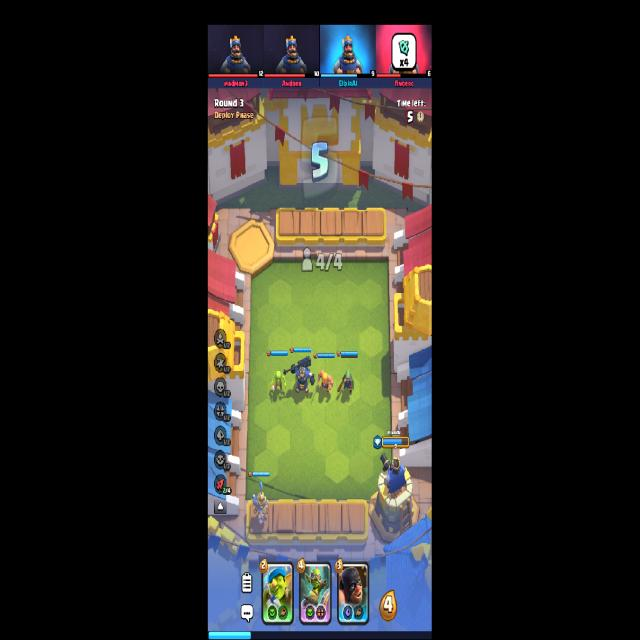bandit: (338, 370, 354, 394)
barbarian: (313, 367, 334, 398)
card_executioner: (337, 562, 369, 624)
card_goblin_machine: (299, 562, 331, 625)
card_spear_goblin: (261, 561, 293, 623)
goblin: (270, 369, 287, 395)
prince: (252, 481, 268, 524)
skeleton_king: (284, 355, 315, 395)
